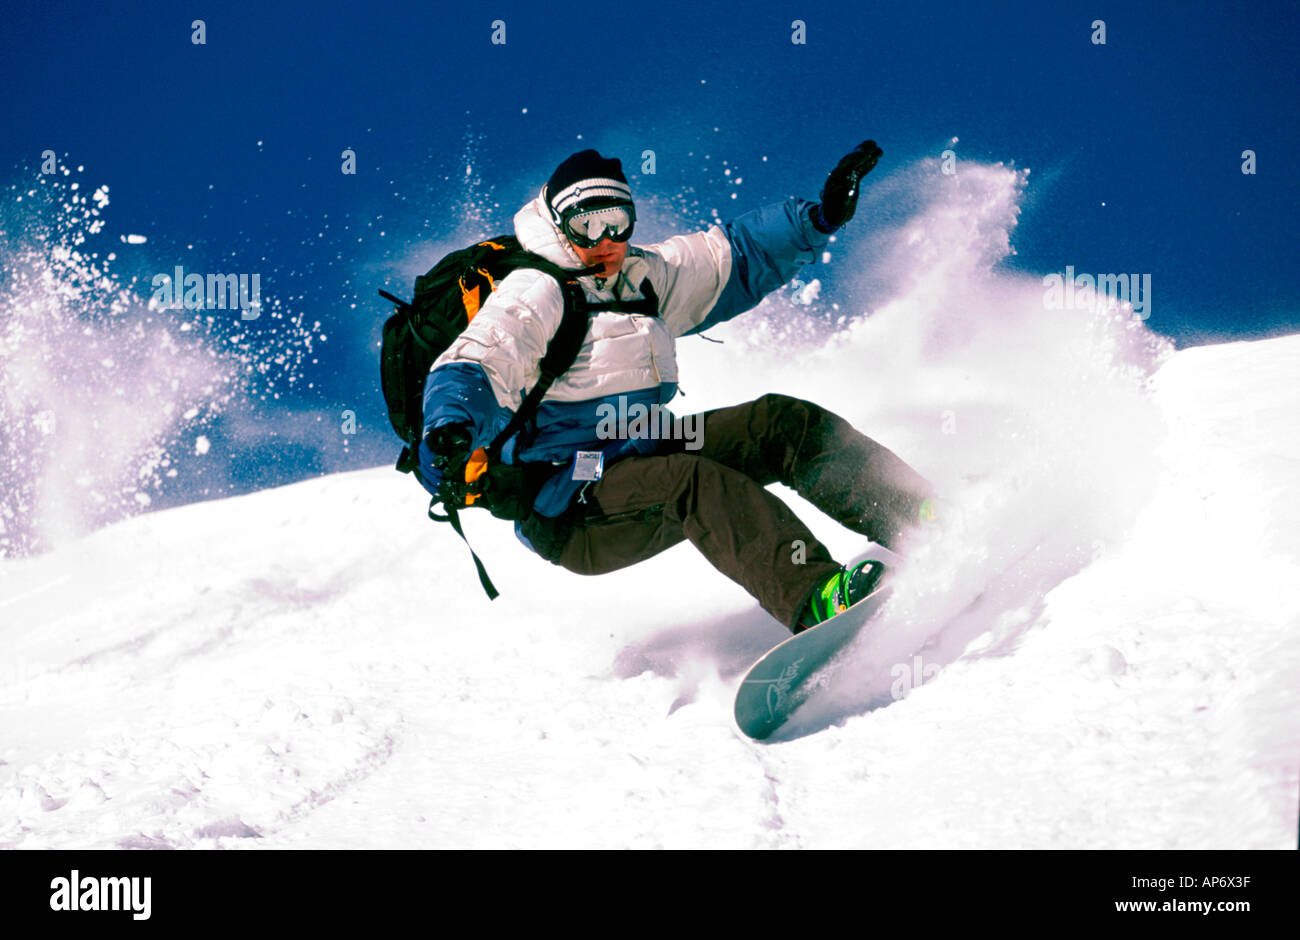snowboarder: (365, 95, 967, 788)
